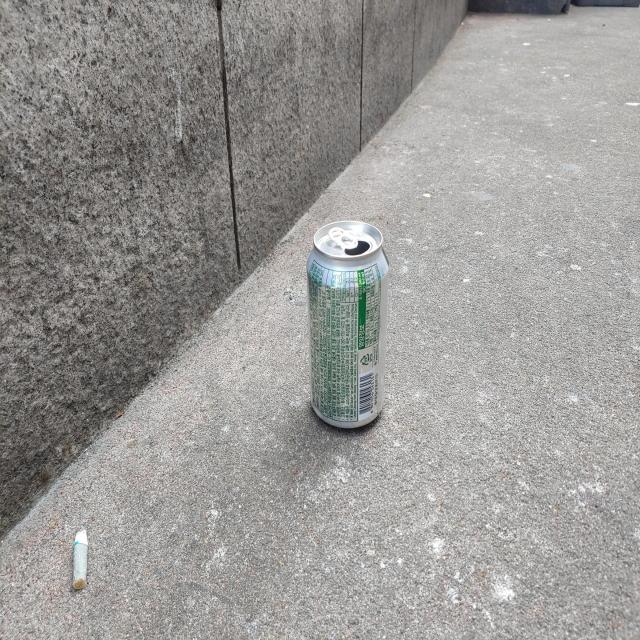can: (306, 220, 389, 428)
